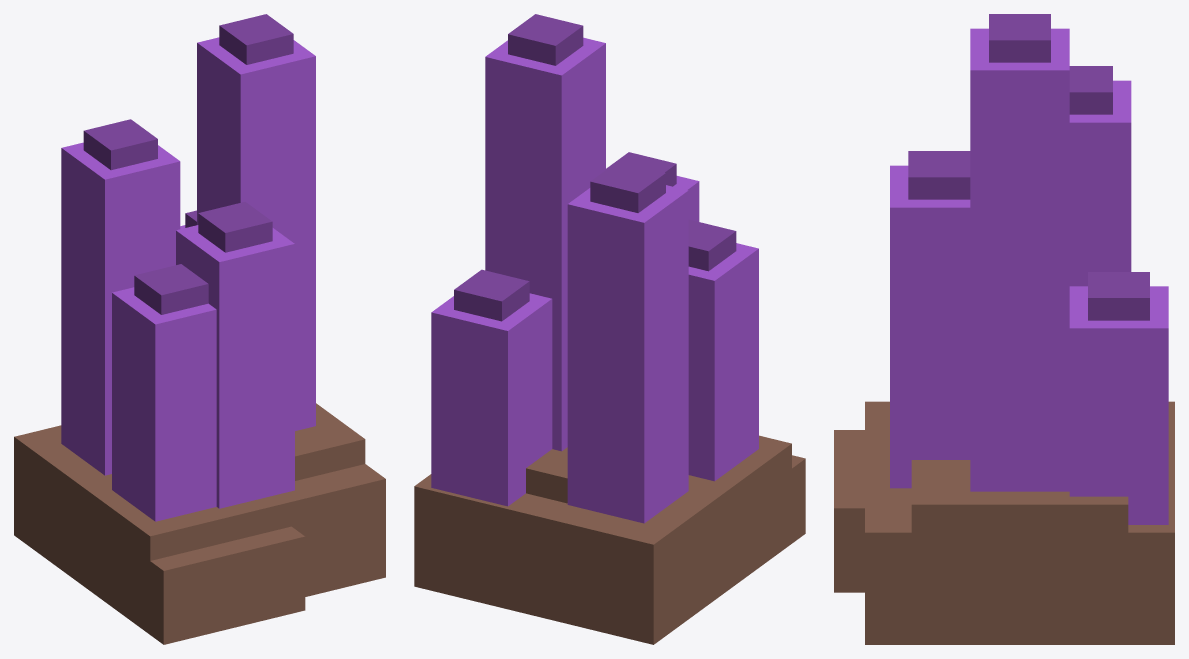
The model's file is TubeCoral_Purple.glb.
The picture shows the model from 3 angles, left to right: view 1: azimuth 30°, elevation 25°; view 2: azimuth 150°, elevation 25°; view 3: azimuth 270°, elevation 25°; orthographic projection. The views are drawn at different scales.
Parts seen in each view (by area): view 1: TubeCoral_Purple; view 2: TubeCoral_Purple; view 3: TubeCoral_Purple.
Boxes of the visible parts, x1,y1,x2,y2 form: TubeCoral_Purple: [14, 14, 385, 644]; TubeCoral_Purple: [414, 14, 805, 644]; TubeCoral_Purple: [834, 14, 1174, 644].
Bounding box in the file's own units: 5 × 10.4 × 5.5.
Materials: 1 (1 with a texture image).
